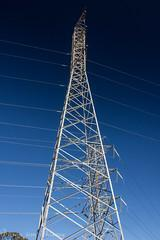power_tower: (37, 8, 124, 240)
